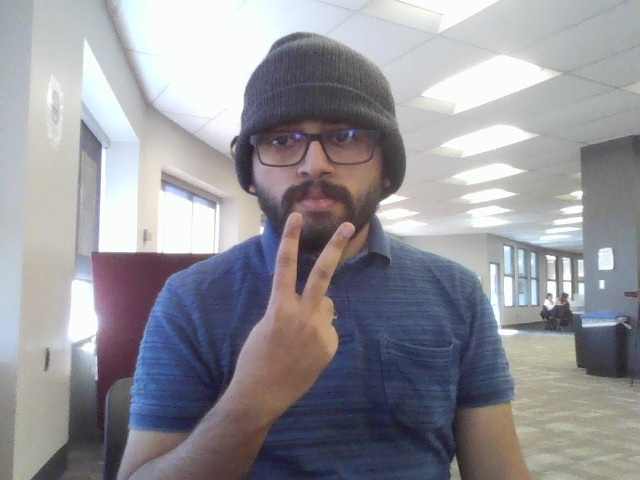start: (236, 203, 363, 422)
